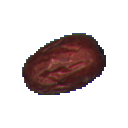gd: (8, 20, 115, 111)
